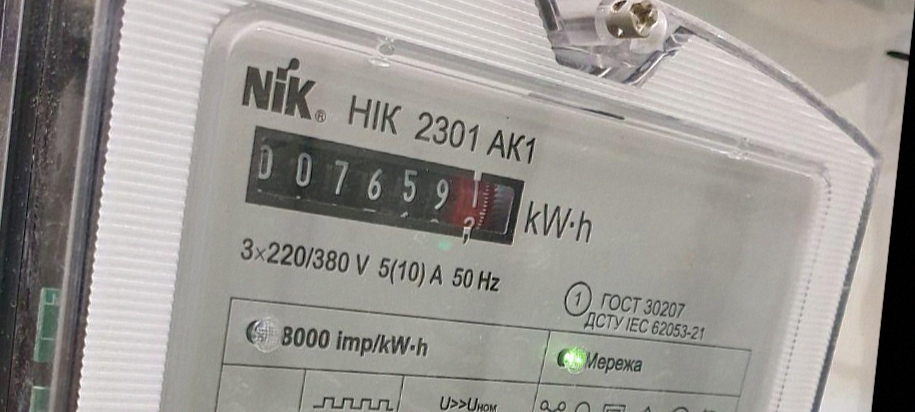0: (290, 146, 318, 189), (252, 139, 279, 182)
1: (466, 177, 486, 211)
5: (398, 165, 422, 205)
6: (363, 162, 388, 203)
7: (328, 155, 352, 197)
9: (431, 174, 452, 213)
screen: (233, 115, 537, 264)
